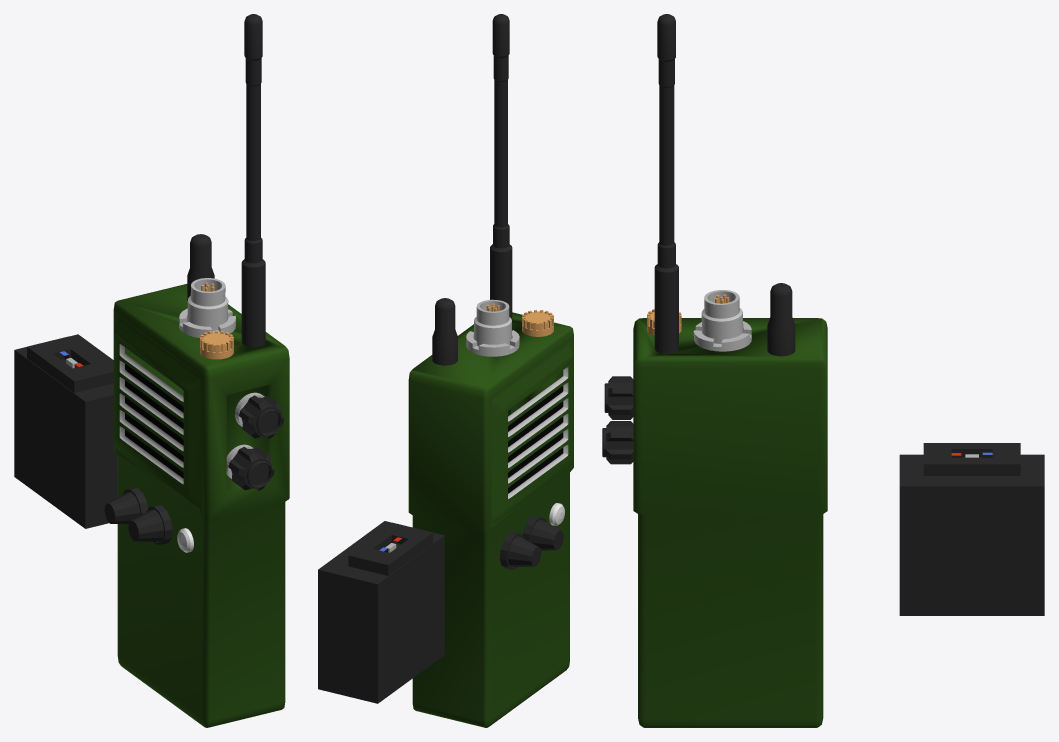
File: reciever.fbx
3 renders of one model, left to right at view 1: azimuth 30°, elevation 25°; view 2: azimuth 150°, elevation 25°; view 3: azimuth 270°, elevation 25°, orthographic. The views are drawn at different scales.
Parts seen in each view (by area): view 1: Body, battery, AntennaBig_low, ConnectorUp_low, SideDial1, SideDial2, mainDial1, mainDial2, AntennaSmall_low, RegulatorUp_low, Gaika_low; view 2: Body, battery, AntennaBig_low, AntennaSmall_low, ConnectorUp_low, mainDial2, mainDial1, Gaika_low, RegulatorUp_low; view 3: Body, battery, AntennaBig_low, AntennaSmall_low, ConnectorUp_low, SideDial1, SideDial2, Gaika_low.
Boxes of the visible parts, x1=… form: Body: x1=113, y1=284, x2=289, y2=727; battery: x1=14, y1=334, x2=117, y2=528; AntennaBig_low: x1=241, y1=14, x2=265, y2=346; ConnectorUp_low: x1=187, y1=278, x2=228, y2=330; SideDial1: x1=228, y1=446, x2=274, y2=490; SideDial2: x1=239, y1=395, x2=284, y2=438; mainDial1: x1=128, y1=505, x2=172, y2=544; mainDial2: x1=104, y1=487, x2=148, y2=524; AntennaSmall_low: x1=187, y1=234, x2=214, y2=300; RegulatorUp_low: x1=200, y1=330, x2=233, y2=359; Gaika_low: x1=179, y1=308, x2=235, y2=337; Body: x1=408, y1=312, x2=573, y2=727; battery: x1=318, y1=521, x2=444, y2=703; AntennaBig_low: x1=490, y1=14, x2=512, y2=322; AntennaSmall_low: x1=432, y1=298, x2=457, y2=365; ConnectorUp_low: x1=474, y1=299, x2=511, y2=346; mainDial2: x1=499, y1=532, x2=541, y2=569; mainDial1: x1=522, y1=515, x2=563, y2=550; Gaika_low: x1=466, y1=330, x2=519, y2=356; RegulatorUp_low: x1=522, y1=309, x2=553, y2=336; Body: x1=633, y1=318, x2=827, y2=727; battery: x1=899, y1=443, x2=1044, y2=615; AntennaBig_low: x1=654, y1=14, x2=678, y2=353; AntennaSmall_low: x1=767, y1=283, x2=795, y2=356; ConnectorUp_low: x1=701, y1=290, x2=743, y2=343; SideDial1: x1=602, y1=421, x2=633, y2=464; SideDial2: x1=604, y1=376, x2=633, y2=419; Gaika_low: x1=693, y1=321, x2=751, y2=351.
Size of the model in its own units: 122 by 715 by 407.
